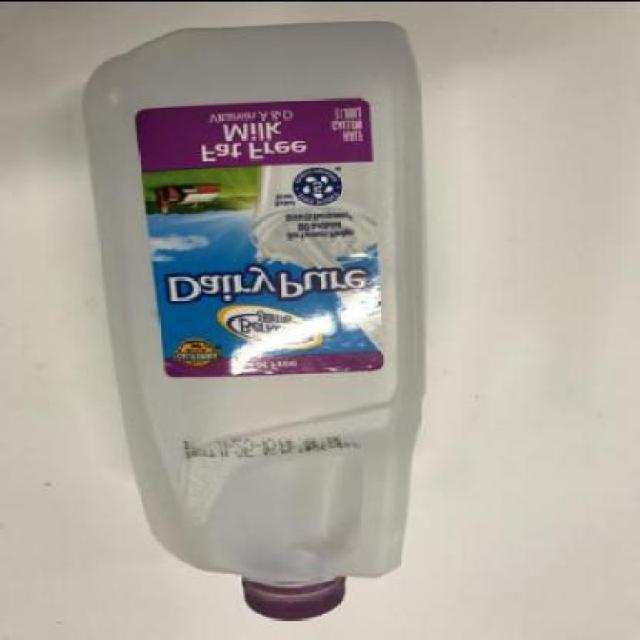PLASTIC: (82, 22, 429, 620), (244, 576, 347, 621)
